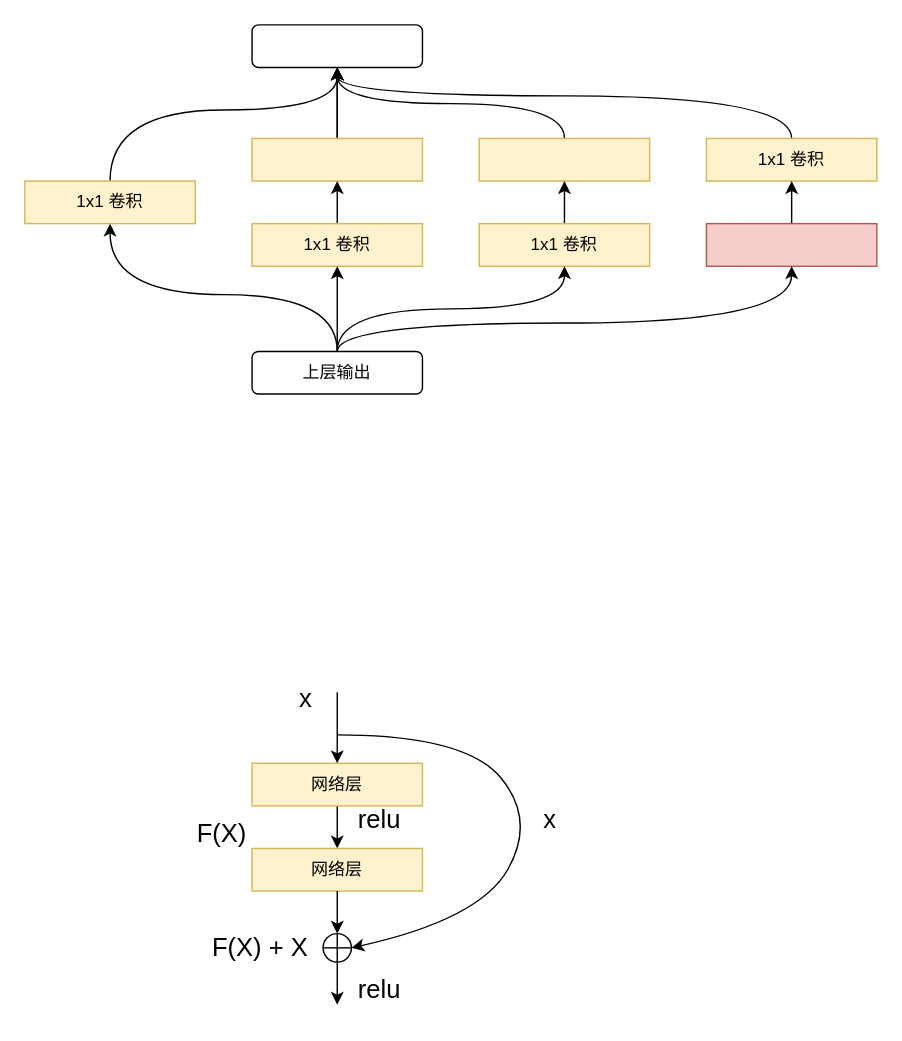
The diagram is 902 pixels wide and 1041 high, and some of its shapes have lost their labels. The shapes that lost their labels are listed below. From the top down, each one's centre as x and y in pixels, then its label:
At (x=336, y=45): "拼接".
At (x=336, y=159): "3x3 卷积".
At (x=564, y=159): "5x5 卷积".
At (x=791, y=244): "3x3 池化".
